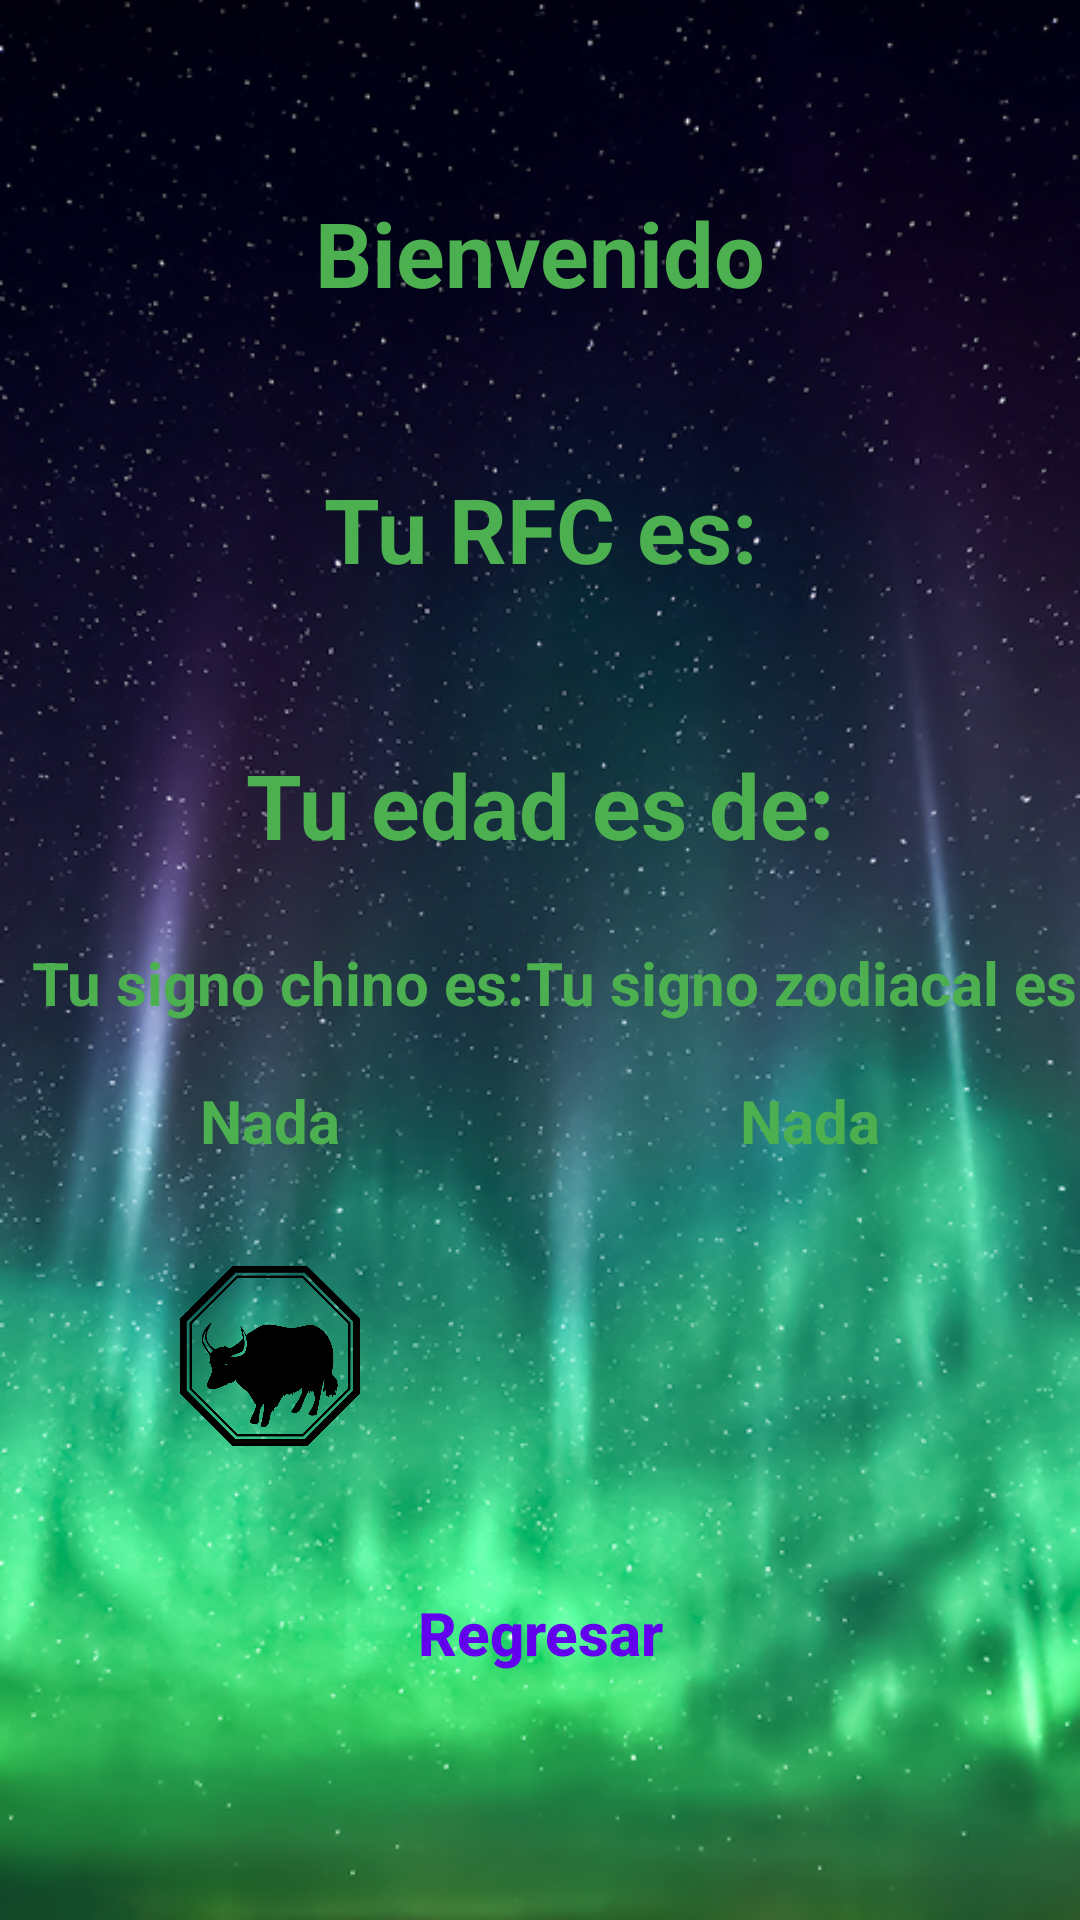

Icon click points for this 1080×1920 phone screenshot, format (x,y):
Es la imagen de tu signo chino: (270,1356)
